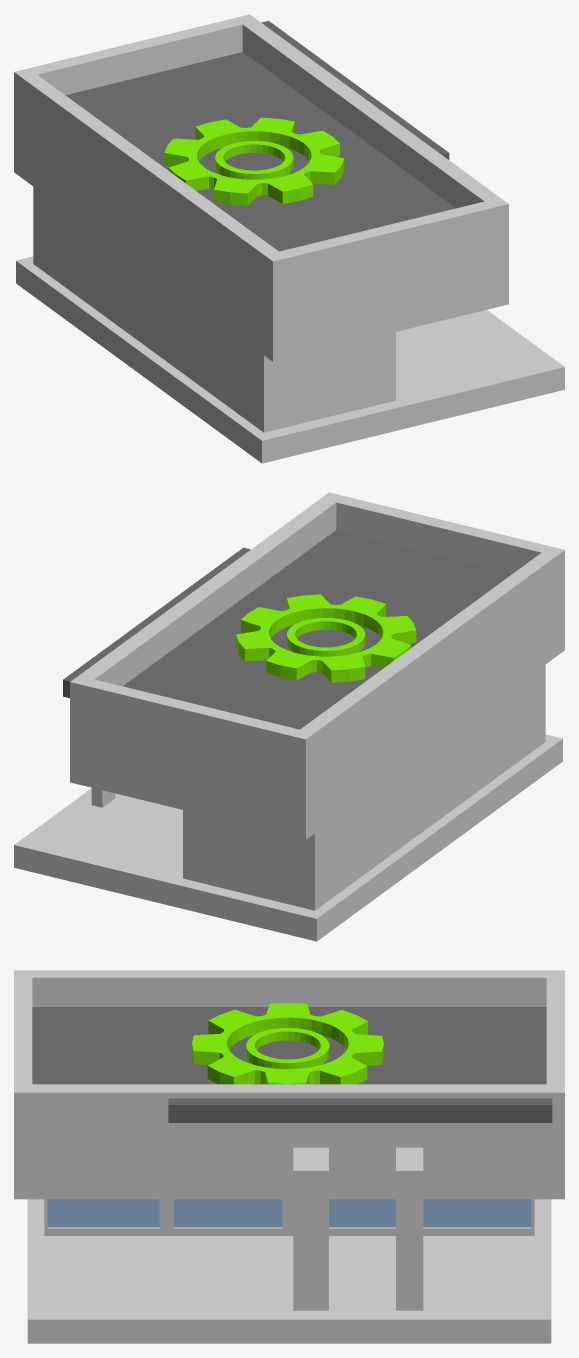
Rendered from REPAIR.fbx.
The picture shows the model from 3 angles, top to bottom: view 1: azimuth 30°, elevation 25°; view 2: azimuth 150°, elevation 25°; view 3: azimuth 270°, elevation 25°; orthographic projection. The views are drawn at different scales.
Parts seen in each view (by area): view 1: Cube.012; view 2: Cube.012; view 3: Cube.012.
Part boxes in pixels (left/top/right/bottom): Cube.012: left=14, top=14, right=564, bottom=463; Cube.012: left=14, top=492, right=564, bottom=941; Cube.012: left=14, top=970, right=564, bottom=1343.
Size of the model in its own units: 495 by 321 by 734.
